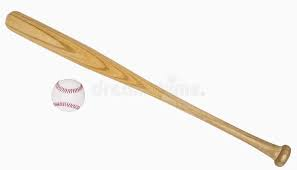baseball bat: (4, 9, 291, 166)
